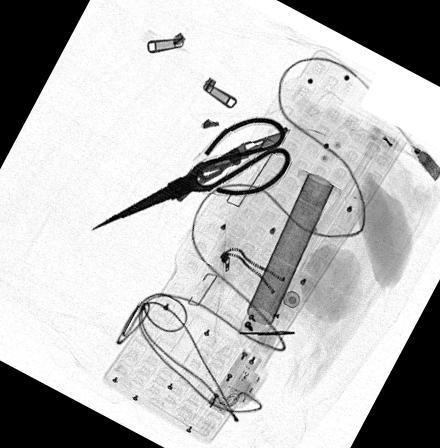Knife: (190, 130, 289, 187)
Scissors: (92, 117, 293, 230)
